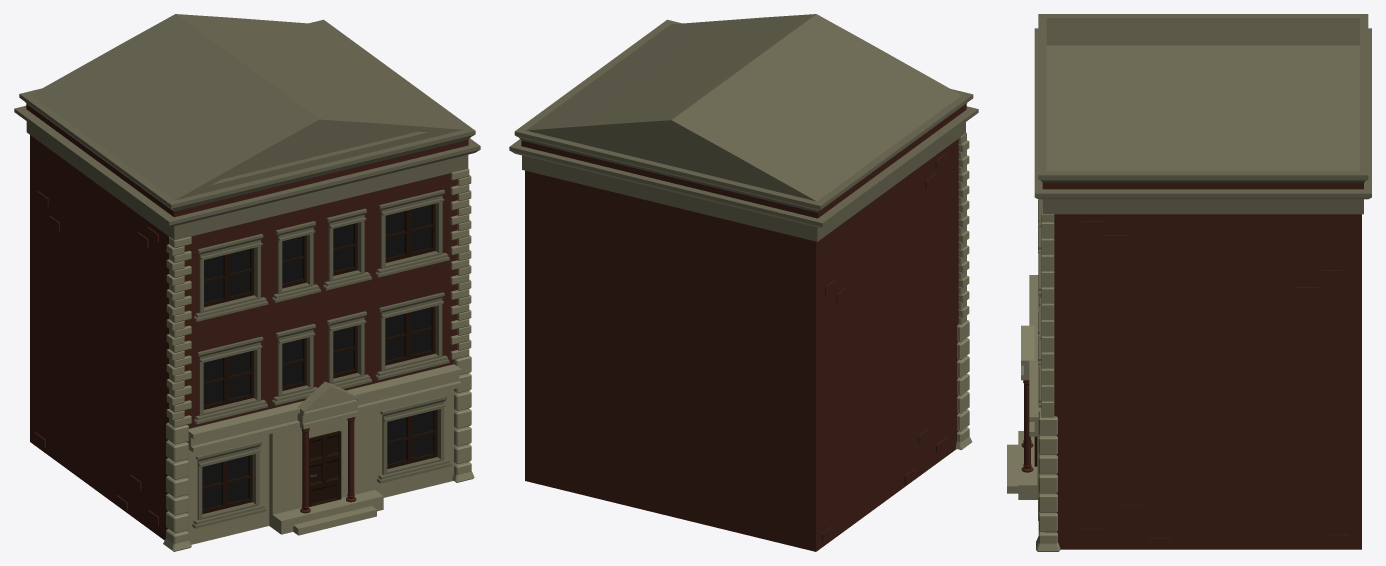
The picture shows the model from 3 angles, left to right: view 1: azimuth 30°, elevation 25°; view 2: azimuth 150°, elevation 25°; view 3: azimuth 270°, elevation 25°; orthographic projection. The views are drawn at different scales.
Visible parts, largest first — view 1: Building3_Big.007_Cube.006; view 2: Building3_Big.007_Cube.006; view 3: Building3_Big.007_Cube.006.
Boxes of the visible parts, box(x1,y1,x2,y2) form: Building3_Big.007_Cube.006: box(14, 14, 480, 551); Building3_Big.007_Cube.006: box(509, 14, 978, 551); Building3_Big.007_Cube.006: box(1007, 14, 1371, 551).
Bounding box in the file's own units: 565 × 681 × 527.
